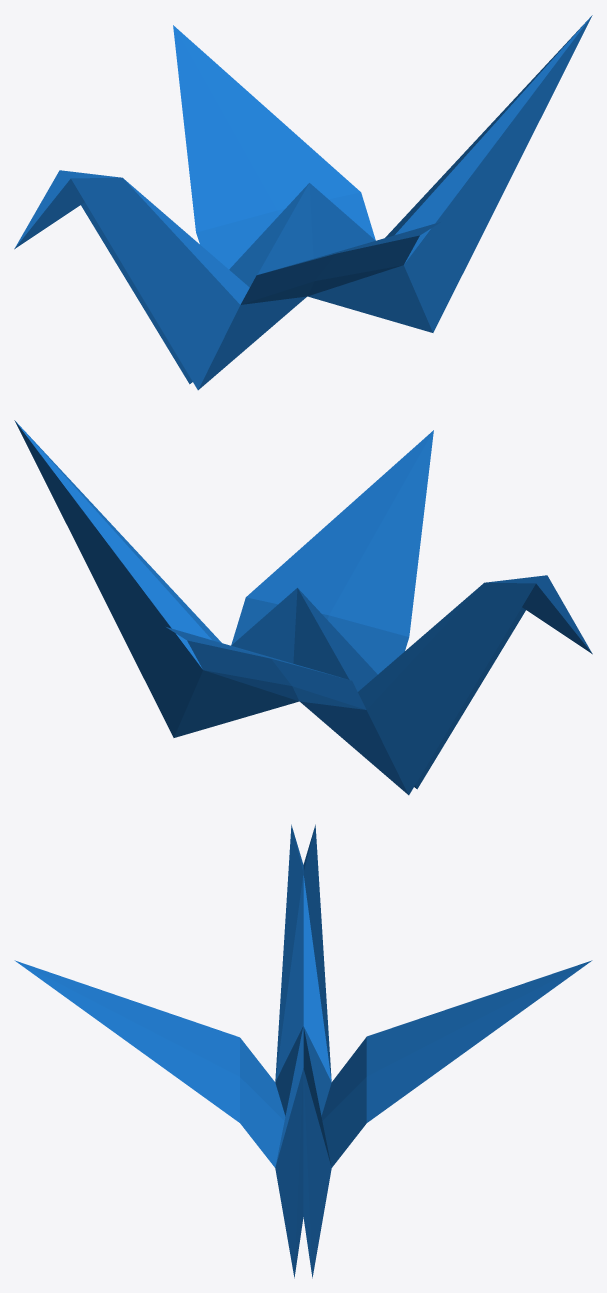
Rendered from asset.gltf.
3 renders of one model, top to bottom at view 1: azimuth 30°, elevation 25°; view 2: azimuth 150°, elevation 25°; view 3: azimuth 270°, elevation 25°, orthographic. The views are drawn at different scales.
Parts seen in each view (by area): view 1: Crane; view 2: Crane; view 3: Crane.
Part boxes in pixels (left/top/right/bottom): Crane: left=14, top=15, right=592, bottom=390; Crane: left=14, top=420, right=592, bottom=795; Crane: left=14, top=824, right=592, bottom=1278.
Bounding box in the file's own units: 3.47 × 1.58 × 2.79.
